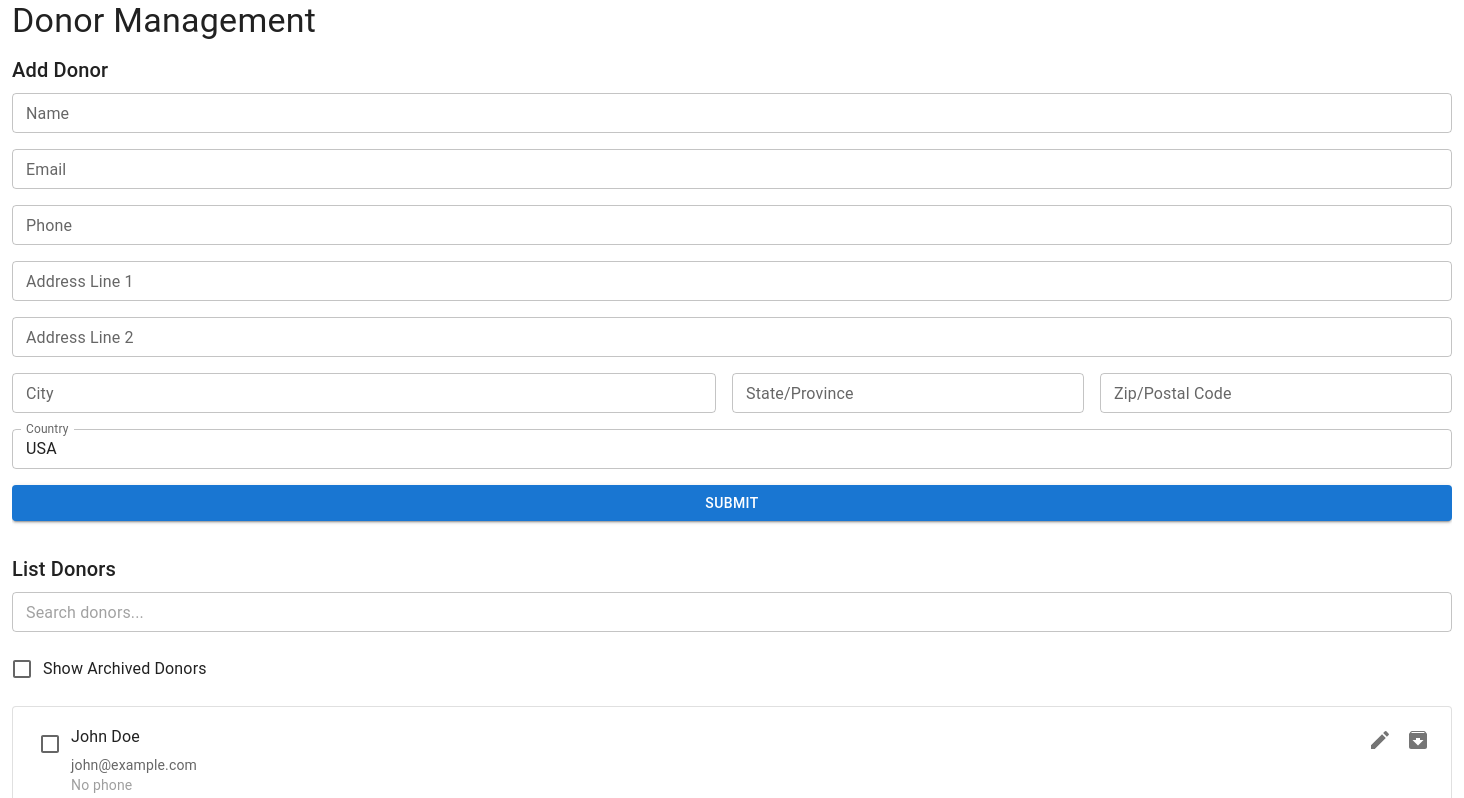
Test: DonorsPage › shows merge button when 2 or more donors selected
Expected: the text "John Doe" is shown, [71,723,140,751]
Expected: the button "merge" is not shown
# Select first donor checkbox
Step 1. Click the 2nd checkbox → [50, 744], box [38,732,62,756]
(page scrolled)
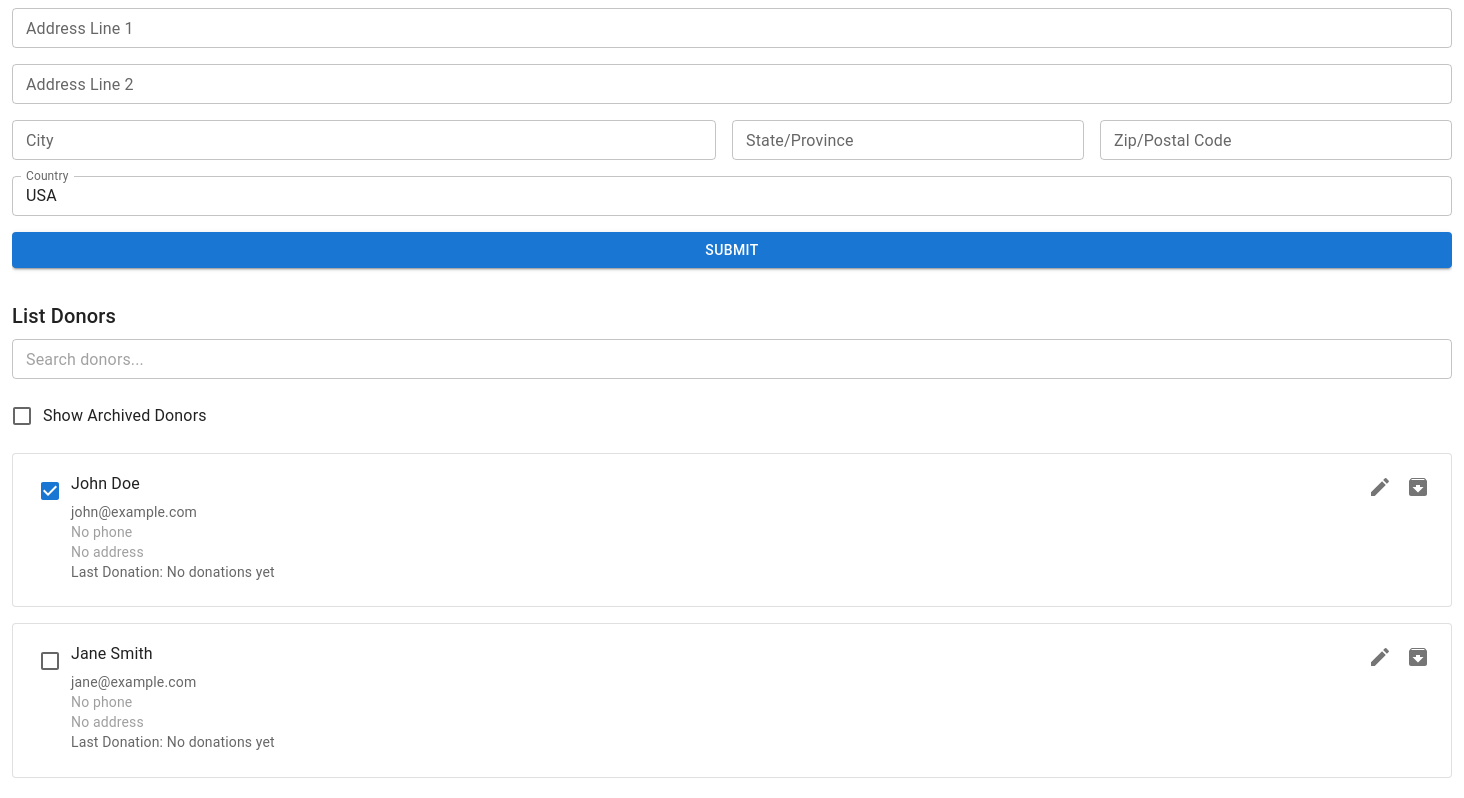
Expected: the button "merge" is not shown
# Select second donor checkbox
Step 2. Click the 3rd checkbox → [50, 661], box [38,649,62,673]
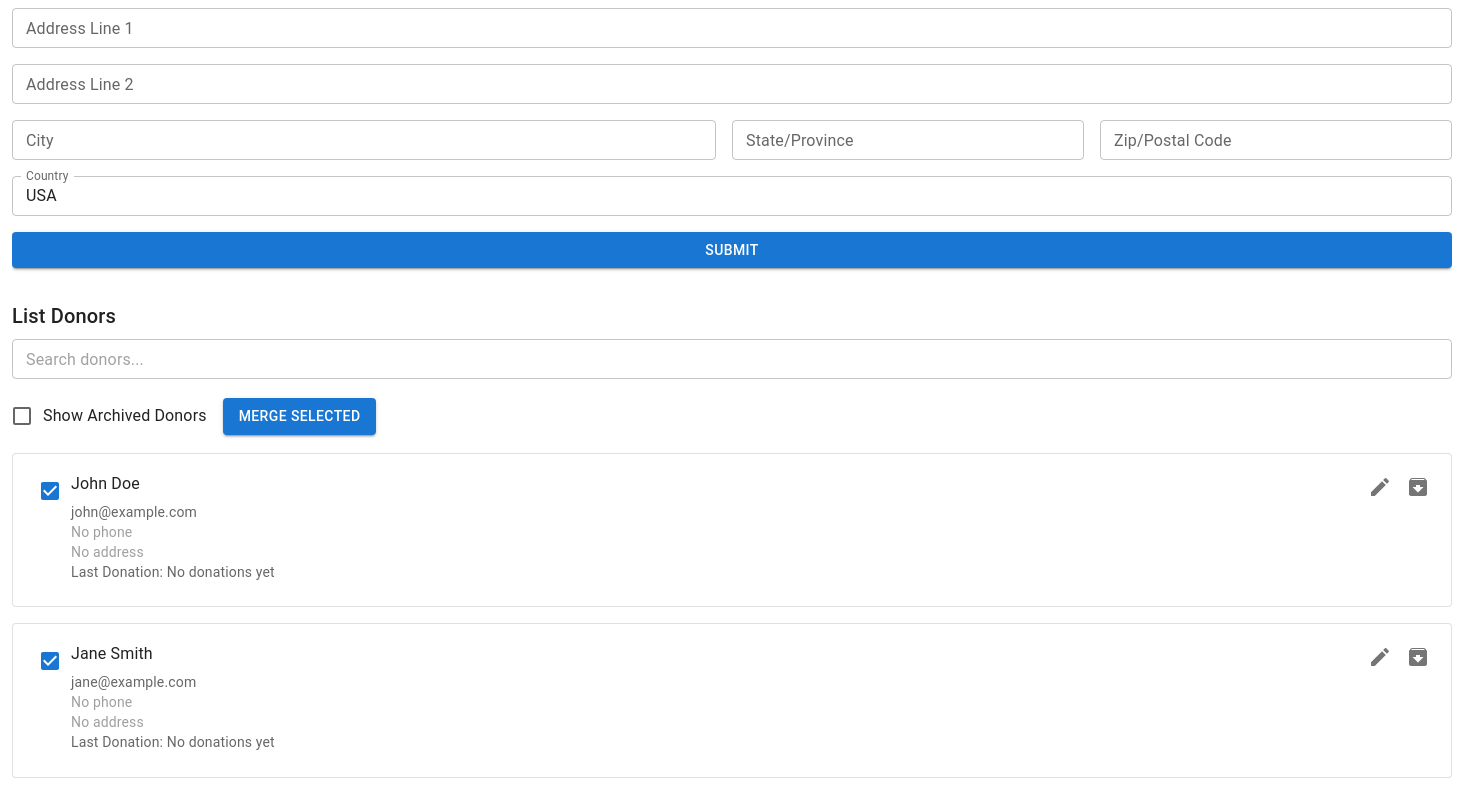
Expected: the button "Merge Selected" is shown, [223,398,376,435]
